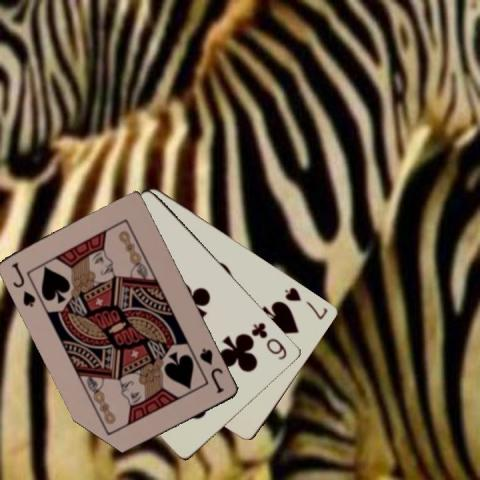6c: (249, 320, 289, 361)
7s: (282, 284, 329, 321)
Js: (197, 346, 226, 396), (9, 259, 37, 309)
